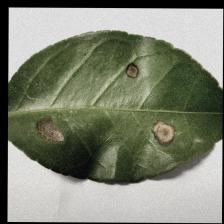greening: (31, 57, 193, 146)
